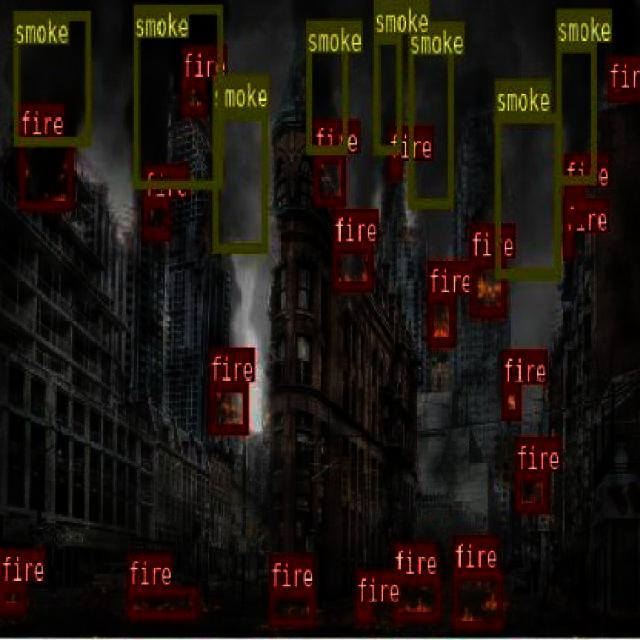fire: (19, 134, 72, 208), (452, 568, 501, 630), (127, 586, 198, 617), (392, 576, 440, 619), (208, 382, 247, 432), (470, 257, 504, 314), (332, 242, 372, 290), (268, 588, 314, 624), (313, 152, 344, 205), (607, 54, 636, 100), (427, 293, 453, 344), (514, 471, 546, 511), (142, 198, 168, 238), (180, 78, 206, 114), (0, 580, 25, 611), (500, 382, 520, 418), (564, 188, 584, 222), (354, 602, 372, 624), (562, 232, 573, 256), (388, 160, 400, 176)
smoke: (132, 3, 222, 188), (494, 112, 558, 276), (13, 9, 89, 146), (406, 21, 452, 207), (212, 107, 266, 250), (304, 17, 346, 152), (556, 42, 596, 182), (372, 33, 400, 153)
